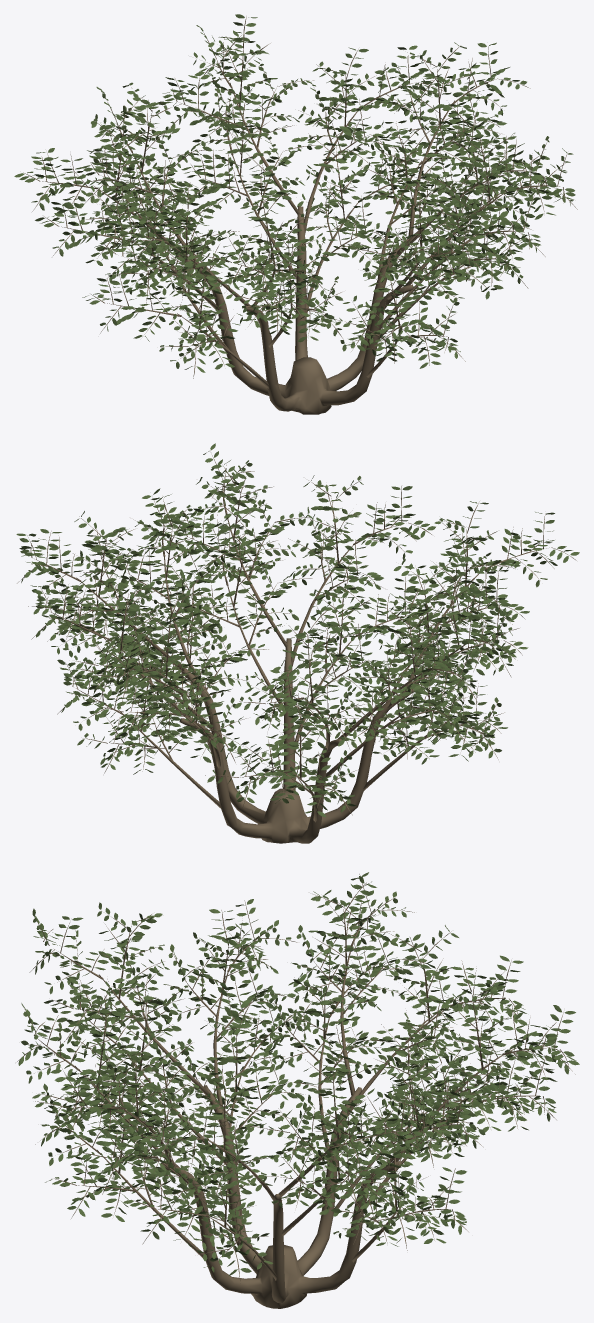
The model's file is Lentisque_0_Niveau0.fbx.
The picture shows the model from 3 angles, top to bottom: view 1: azimuth 30°, elevation 25°; view 2: azimuth 150°, elevation 25°; view 3: azimuth 270°, elevation 25°; orthographic projection. The views are drawn at different scales.
Visible parts, largest first — view 1: Lentisque_0_Niveau0_Jeu; view 2: Lentisque_0_Niveau0_Jeu; view 3: Lentisque_0_Niveau0_Jeu.
Part boxes in pixels (box(x1,y1,x2,y2)): Lentisque_0_Niveau0_Jeu: box(14, 14, 577, 414); Lentisque_0_Niveau0_Jeu: box(16, 443, 579, 843); Lentisque_0_Niveau0_Jeu: box(17, 872, 579, 1308).
Bounding box in the file's own units: 169 × 105 × 159.
